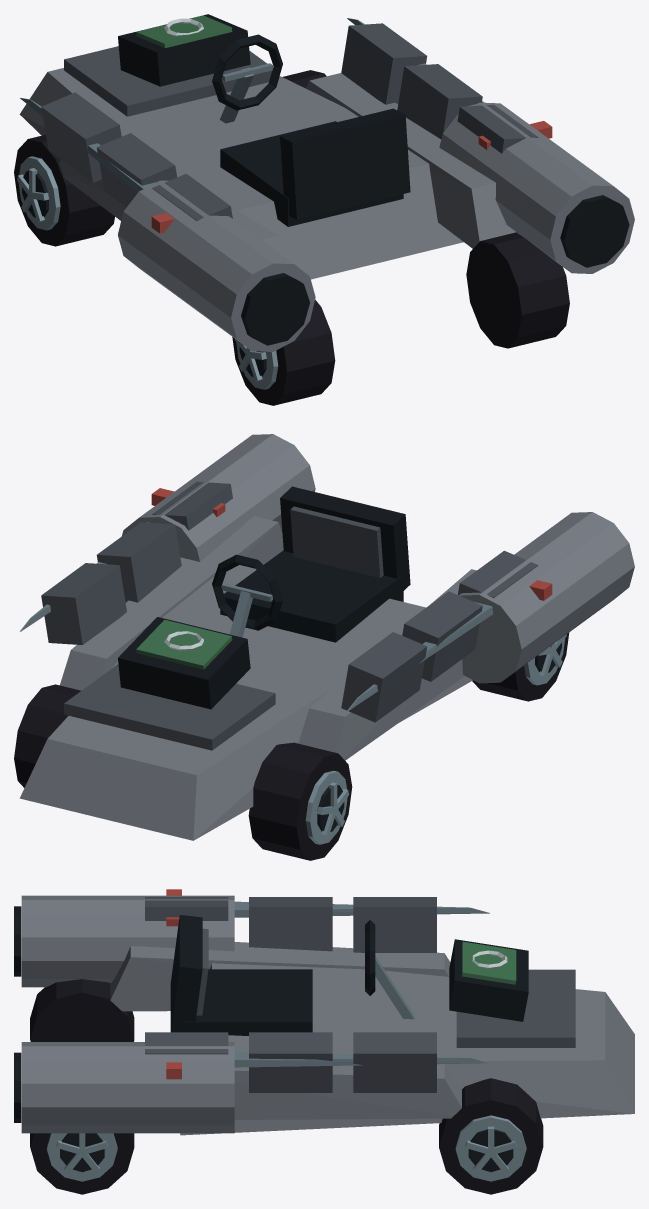
The model's file is kart.glb.
3 renders of one model, top to bottom at view 1: azimuth 30°, elevation 25°; view 2: azimuth 150°, elevation 25°; view 3: azimuth 270°, elevation 25°, orthographic. The views are drawn at different scales.
Parts seen in each view (by area): view 1: identity-speeder-speeder-long-cowl-and-stern-turbines, identity-speeder-motif-armor, identity-speeder-driver-cockpit, wheel-rear-right, identity-speeder-motif-scanner, wheel-front-left, wheel-rear-left, identity-speeder-motif-swords; view 2: identity-speeder-speeder-long-cowl-and-stern-turbines, identity-speeder-motif-armor, identity-speeder-driver-cockpit, wheel-front-left, identity-speeder-motif-scanner, wheel-front-right, wheel-rear-left, identity-speeder-motif-swords; view 3: identity-speeder-speeder-long-cowl-and-stern-turbines, identity-speeder-motif-armor, identity-speeder-driver-cockpit, wheel-front-right, identity-speeder-motif-scanner, wheel-rear-left, wheel-rear-right, identity-speeder-motif-swords.
Boxes of the visible parts, x1=… form: identity-speeder-speeder-long-cowl-and-stern-turbines: x1=19, y1=46, x2=634, y2=351; identity-speeder-motif-armor: x1=41, y1=23, x2=538, y2=220; identity-speeder-driver-cockpit: x1=212, y1=34, x2=410, y2=226; wheel-rear-right: x1=466, y1=232, x2=569, y2=348; identity-speeder-motif-scanner: x1=118, y1=14, x2=250, y2=86; wheel-front-left: x1=14, y1=134, x2=114, y2=246; wheel-rear-left: x1=232, y1=299, x2=335, y2=405; identity-speeder-motif-swords: x1=20, y1=18, x2=552, y2=233; identity-speeder-speeder-long-cowl-and-stern-turbines: x1=19, y1=434, x2=634, y2=840; identity-speeder-motif-armor: x1=41, y1=481, x2=538, y2=722; identity-speeder-driver-cockpit: x1=212, y1=486, x2=410, y2=642; wheel-front-left: x1=248, y1=742, x2=352, y2=860; identity-speeder-motif-scanner: x1=118, y1=617, x2=250, y2=709; wheel-front-right: x1=14, y1=684, x2=80, y2=787; wheel-rear-left: x1=472, y1=632, x2=569, y2=701; identity-speeder-motif-swords: x1=20, y1=488, x2=552, y2=711; identity-speeder-speeder-long-cowl-and-stern-turbines: x1=14, y1=895, x2=634, y2=1135; identity-speeder-motif-armor: x1=145, y1=897, x2=436, y2=1092; identity-speeder-driver-cockpit: x1=170, y1=915, x2=414, y2=1035; wheel-front-right: x1=439, y1=1078, x2=543, y2=1194; identity-speeder-motif-scanner: x1=449, y1=939, x2=528, y2=1021; wheel-rear-left: x1=30, y1=979, x2=134, y2=1041; wheel-rear-right: x1=30, y1=1133, x2=134, y2=1194; identity-speeder-motif-swords: x1=166, y1=889, x2=489, y2=1079.
Size of the model in its own units: 2.1 by 1.09 by 2.98.
